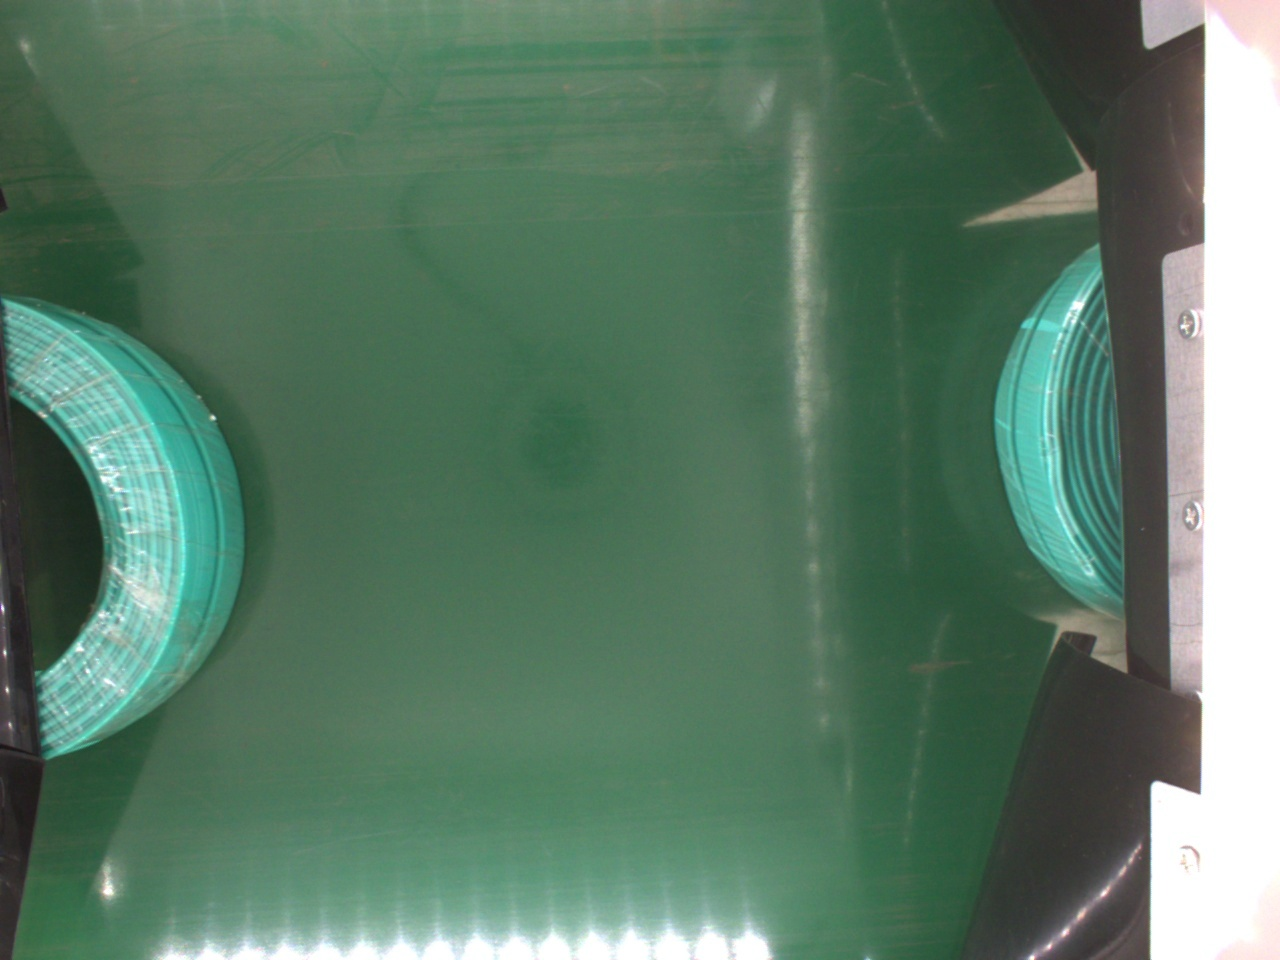green: (6, 288, 246, 758), (992, 239, 1131, 619)
